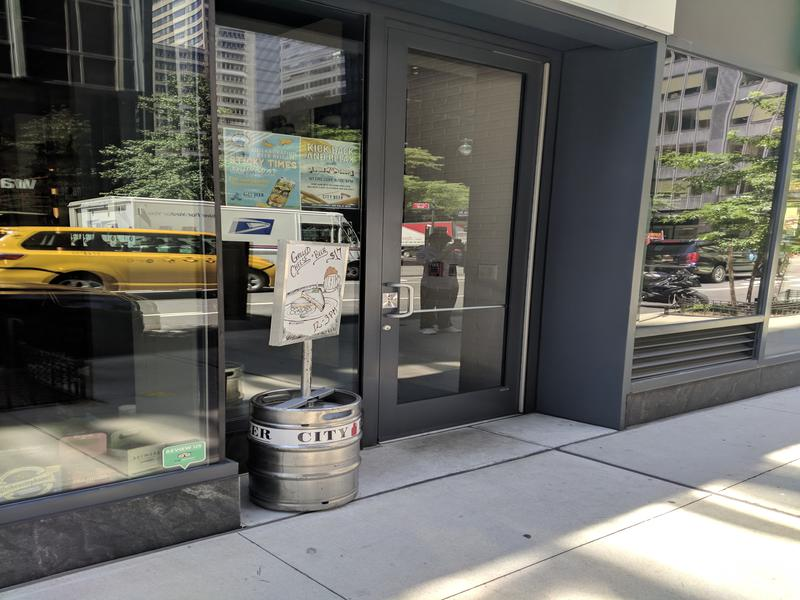door: (379, 13, 550, 441)
